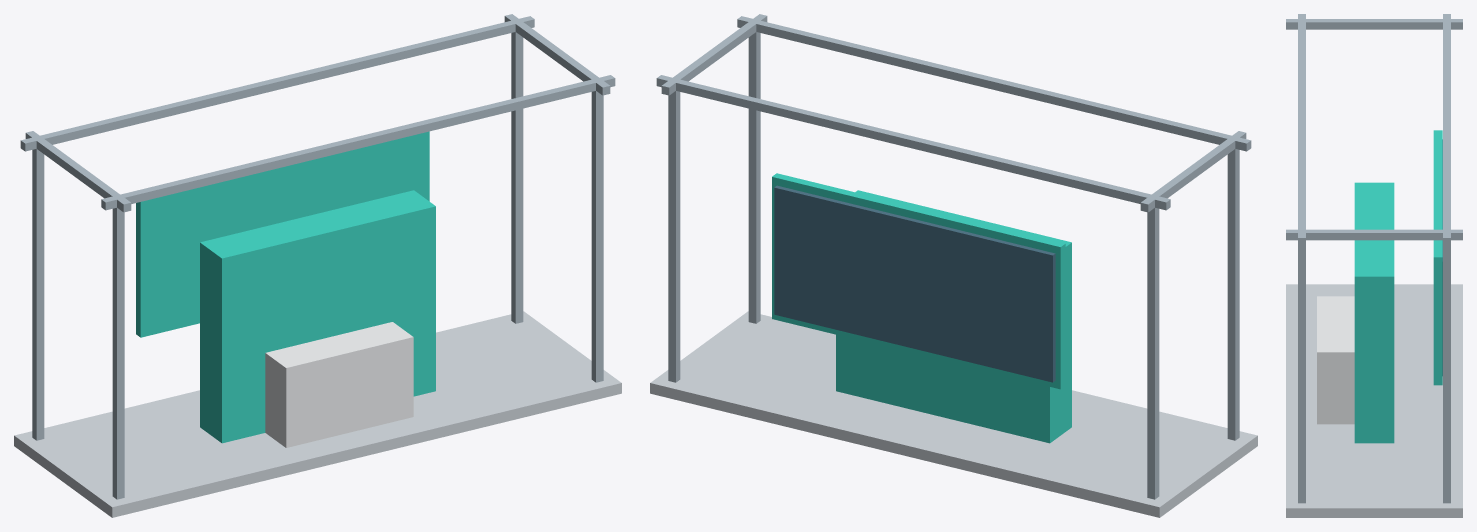
The picture shows the model from 3 angles, left to right: view 1: azimuth 30°, elevation 25°; view 2: azimuth 150°, elevation 25°; view 3: azimuth 270°, elevation 25°; orthographic projection. The views are drawn at different scales.
Visible parts, largest first — view 1: Exhibition Booth Concept; view 2: Exhibition Booth Concept; view 3: Exhibition Booth Concept.
Boxes of the visible parts, <box> form: Exhibition Booth Concept: <box>14,14,621,517</box>; Exhibition Booth Concept: <box>650,14,1257,517</box>; Exhibition Booth Concept: <box>1286,14,1462,517</box>.
Bounding box in the file's own units: 6 × 3.49 × 2.
